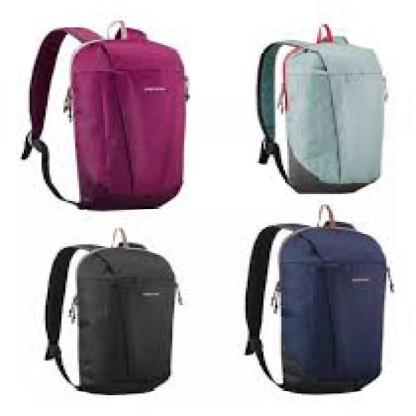morral: (12, 18, 198, 214), (232, 213, 404, 402), (236, 12, 400, 201), (28, 220, 194, 399)
